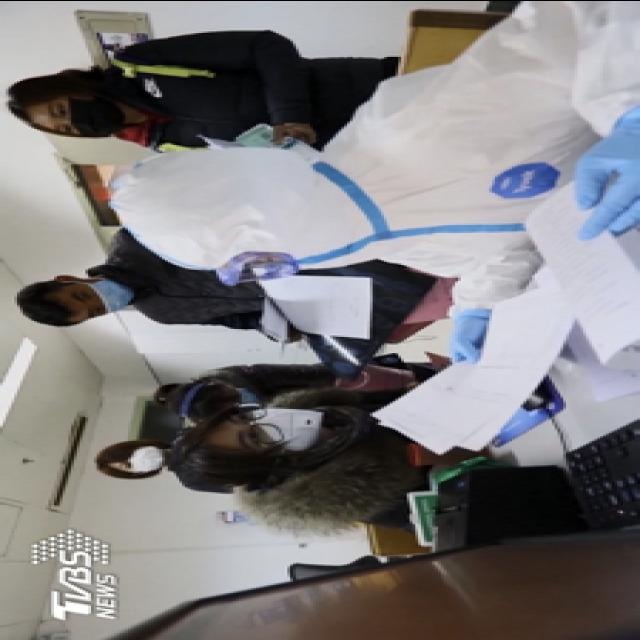mask: (228, 406, 330, 452), (40, 94, 128, 140), (63, 280, 134, 317), (116, 445, 168, 477)
